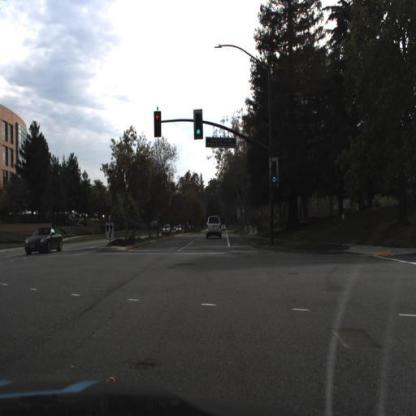car: (22, 222, 66, 255), (204, 212, 223, 240)
trafficLight: (268, 154, 280, 188), (193, 108, 203, 142)
trafficLight-RedLeft: (154, 112, 162, 138)
